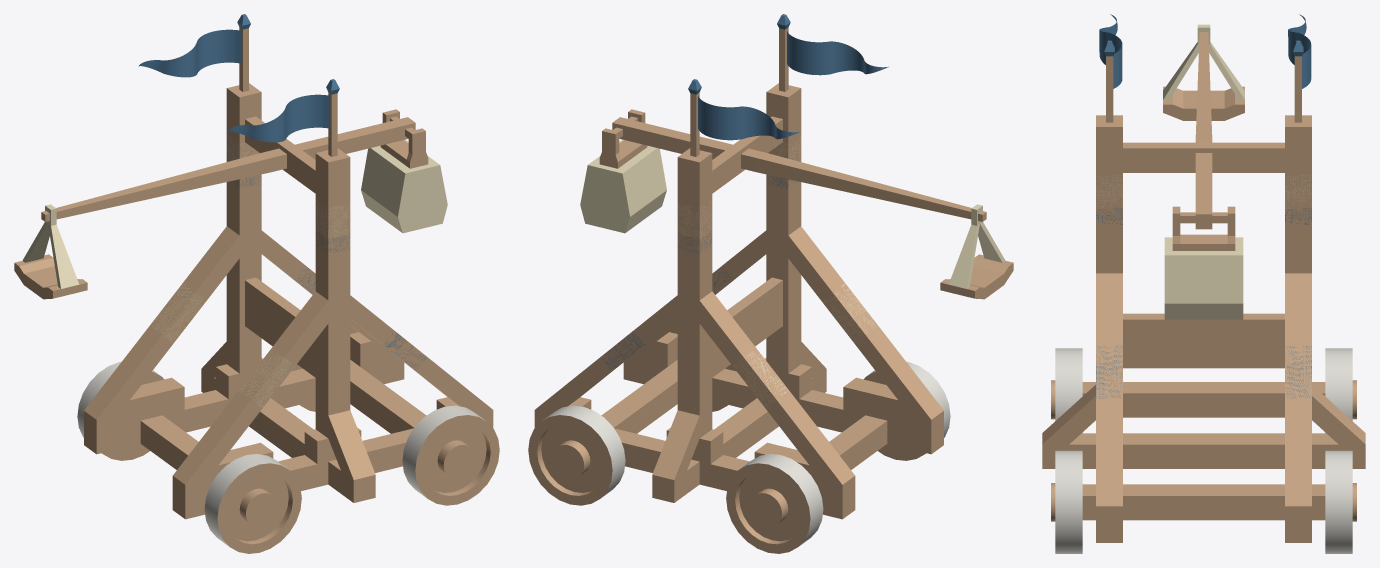
The model's file is siegeTrebuchet.obj.
The picture shows the model from 3 angles, left to right: view 1: azimuth 30°, elevation 25°; view 2: azimuth 150°, elevation 25°; view 3: azimuth 270°, elevation 25°; orthographic projection. The views are drawn at different scales.
Parts seen in each view (by area): view 1: body 9, wheelFrontRight 14, wheelBackRight 11, weight 2, trebuchet 2, catapult 5, flag 27, flag 26, wheelBackLeft 11; view 2: body 9, wheelFrontLeft 14, wheelBackLeft 11, weight 2, trebuchet 2, catapult 5, flag 26, flag 27, wheelBackRight 11; view 3: body 9, weight 2, catapult 5, wheelFrontLeft 14, wheelFrontRight 14, trebuchet 2, wheelBackLeft 11, wheelBackRight 11, flag 26, flag 27.
Boxes of the visible parts, left/top/right/bottom form: body 9: left=84, top=83, right=493, bottom=519; wheelFrontRight 14: left=402, top=405, right=499, bottom=505; wheelBackRight 11: left=204, top=454, right=301, bottom=553; weight 2: left=361, top=109, right=447, bottom=233; trebuchet 2: left=41, top=117, right=415, bottom=221; catapult 5: left=14, top=204, right=87, bottom=299; flag 27: left=227, top=79, right=339, bottom=156; flag 26: left=138, top=14, right=250, bottom=91; wheelBackLeft 11: left=77, top=361, right=164, bottom=460; body 9: left=534, top=83, right=943, bottom=519; wheelFrontLeft 14: left=528, top=405, right=625, bottom=505; wheelBackLeft 11: left=726, top=454, right=823, bottom=553; weight 2: left=580, top=109, right=666, bottom=233; trebuchet 2: left=612, top=117, right=986, bottom=221; catapult 5: left=940, top=204, right=1013, bottom=299; flag 26: left=688, top=79, right=800, bottom=156; flag 27: left=777, top=14, right=888, bottom=91; wheelBackRight 11: left=863, top=361, right=950, bottom=460; body 9: left=1042, top=115, right=1365, bottom=542; weight 2: left=1164, top=206, right=1243, bottom=319; catapult 5: left=1163, top=24, right=1244, bottom=120; wheelFrontLeft 14: left=1325, top=450, right=1356, bottom=553; wheelFrontRight 14: left=1051, top=450, right=1082, bottom=553; trebuchet 2: left=1195, top=32, right=1212, bottom=229; wheelBackLeft 11: left=1325, top=348, right=1356, bottom=433; wheelBackRight 11: left=1051, top=348, right=1082, bottom=433; flag 26: left=1288, top=14, right=1311, bottom=122; flag 27: left=1099, top=14, right=1122, bottom=122.
Size of the model in its own units: 19.5 by 19.59 by 12.58.
